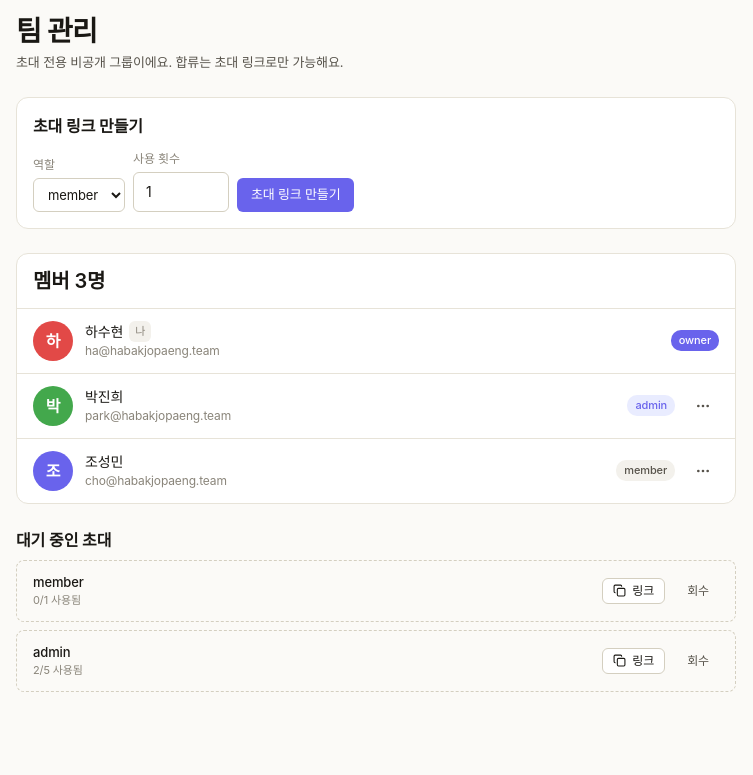
it: TeamManager › 대기 초대의 '링크' 버튼은 resend API로 초대 링크를 다시 노출한다
The width and height of the screenshot is (753, 775).
Click the button with aria-label "초대 링크 다시 보기" at (634, 590), box [602,578,665,604]
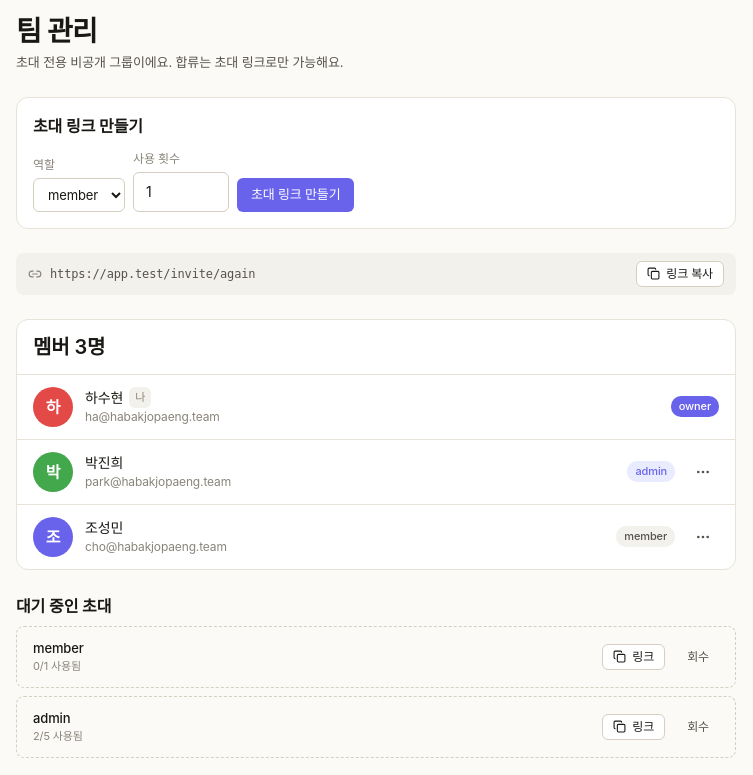
Check: the text "https://app.test/invite/again" is shown, box [50,266,256,280]
